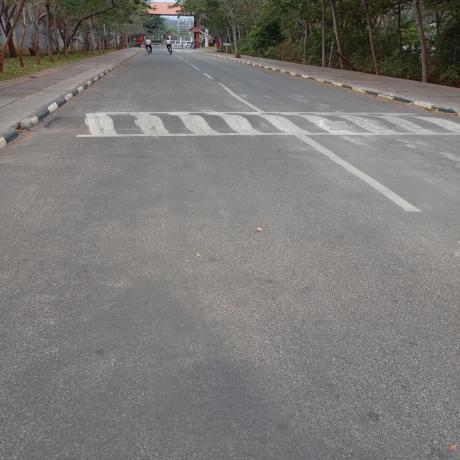Speed Bump: (45, 111, 460, 134)
